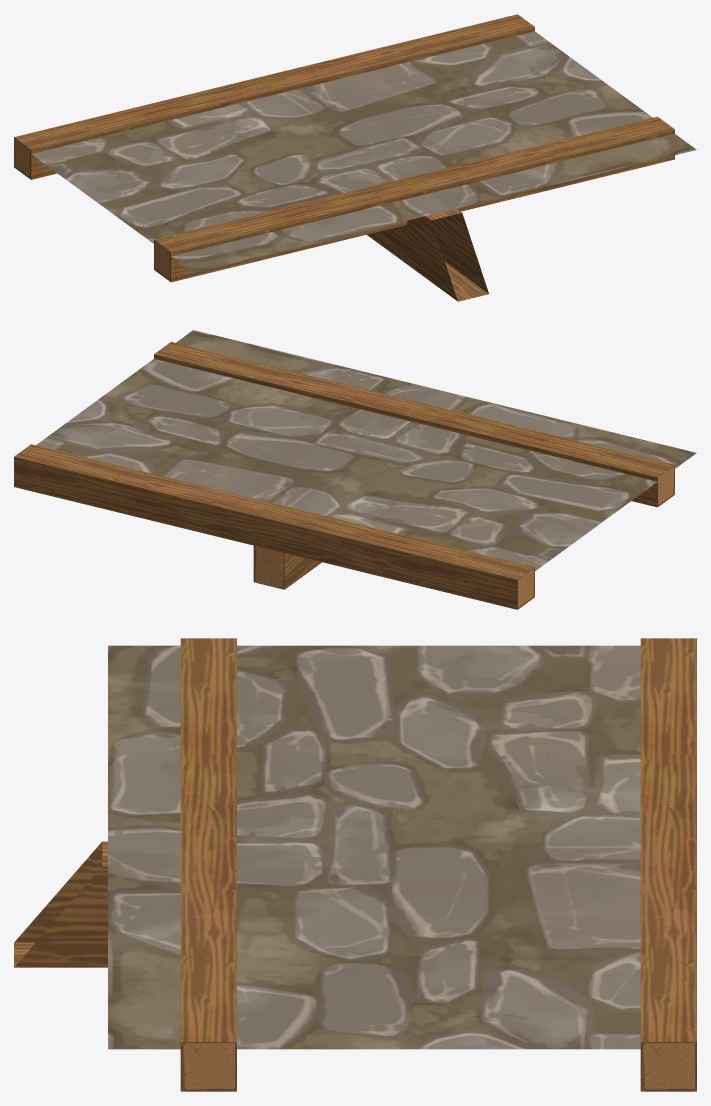
Rendered from Overhang_RoofIncline_UnevenBricks.glb.
The picture shows the model from 3 angles, top to bottom: view 1: azimuth 30°, elevation 25°; view 2: azimuth 150°, elevation 25°; view 3: azimuth 270°, elevation 25°; orthographic projection. The views are drawn at different scales.
Visible parts, largest first — view 1: Overhang_RoofIncline_UnevenBricks; view 2: Overhang_RoofIncline_UnevenBricks; view 3: Overhang_RoofIncline_UnevenBricks.
Part boxes in pixels (x1,y1,x2,y2): Overhang_RoofIncline_UnevenBricks: (14, 14, 696, 301); Overhang_RoofIncline_UnevenBricks: (14, 330, 696, 609); Overhang_RoofIncline_UnevenBricks: (14, 638, 696, 1091).
Bounding box in the file's own units: 2 × 0.2659 × 1.43.
Materials: 2 (2 with a texture image).
